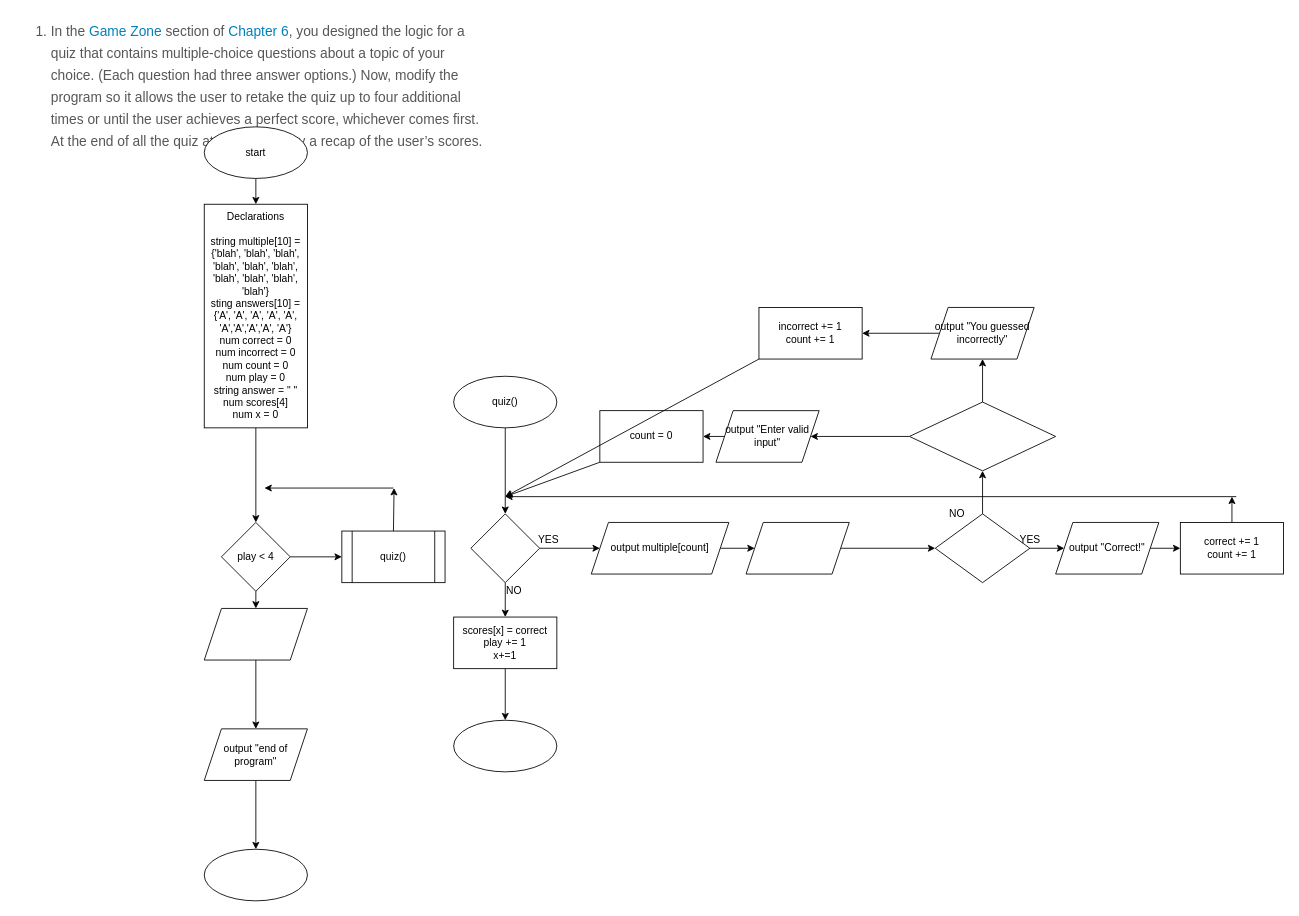
The diagram is 1299 pixels wide and 916 high, and some of its shapes have lost their labels. Each missing label, with the box of its shape:
answer == 'A' OR answer == 'B' OR answer == 'C': (909, 401, 1056, 471)
answer == answers[count]: (934, 513, 1030, 583)
count < 10: (470, 513, 540, 583)
input answer: (745, 522, 849, 574)
output scores: (203, 608, 307, 660)
return: (453, 719, 557, 772)
stop: (203, 848, 307, 901)
